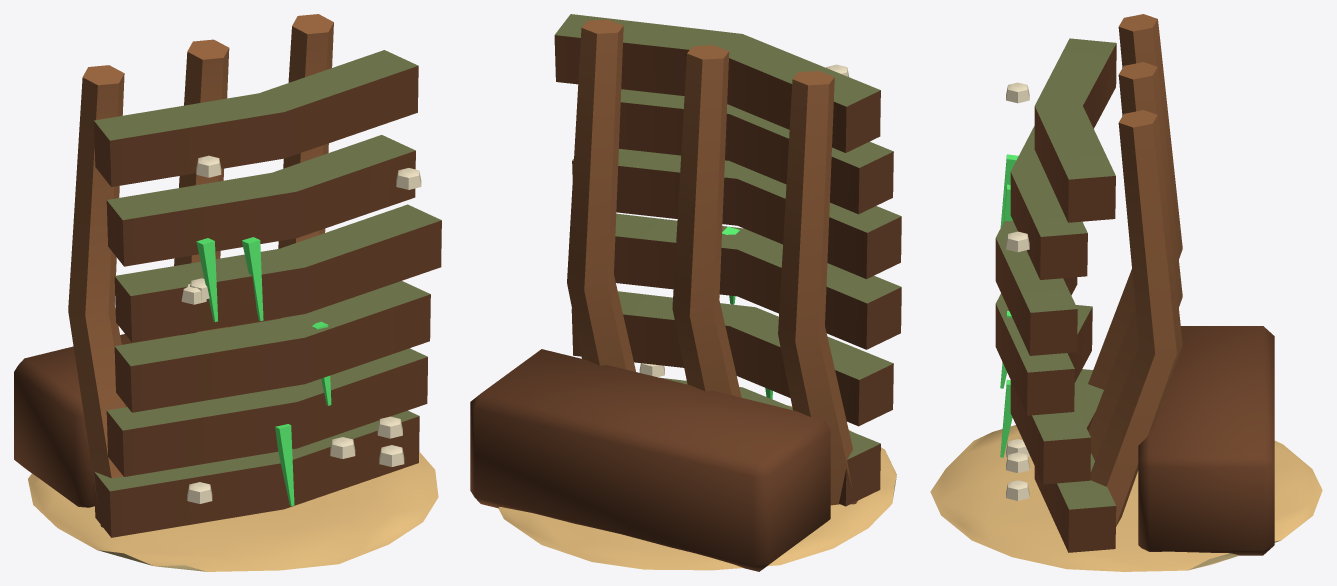
Rendered from ShipHull.fbx.
The picture shows the model from 3 angles, left to right: view 1: azimuth 30°, elevation 25°; view 2: azimuth 150°, elevation 25°; view 3: azimuth 270°, elevation 25°; orthographic projection. The views are drawn at different scales.
Parts seen in each view (by area): view 1: ShipHull; view 2: ShipHull; view 3: ShipHull.
Boxes of the visible parts, x1=… form: ShipHull: x1=14, y1=14, x2=441, y2=571; ShipHull: x1=470, y1=14, x2=901, y2=571; ShipHull: x1=930, y1=14, x2=1322, y2=571.
Bounding box in the file's own units: 1.68 × 2.04 × 1.73.
Materials: 1 (1 with a texture image).
